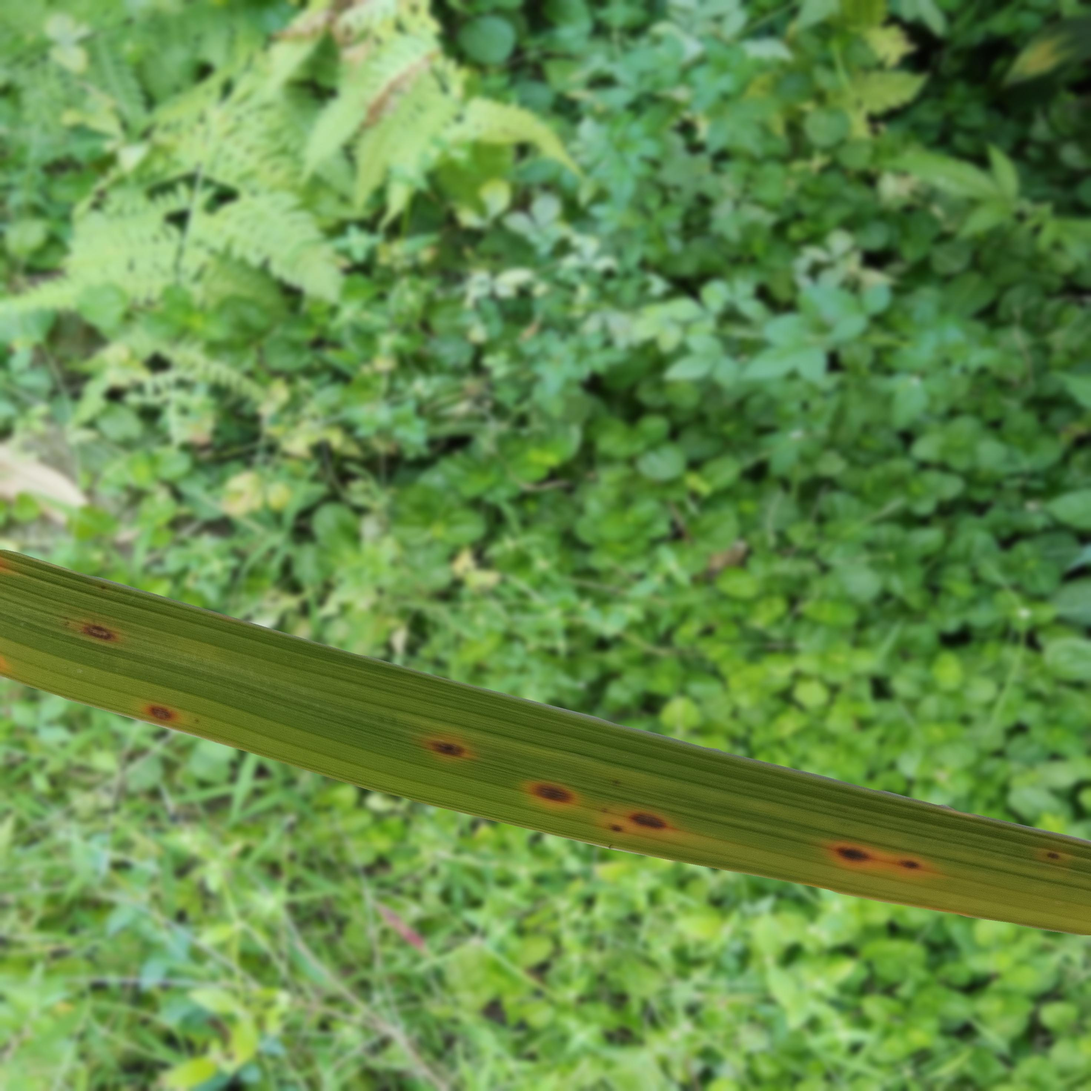LEAF BLAST: (533, 783, 571, 803), (429, 739, 464, 757), (143, 704, 177, 722), (630, 812, 666, 829), (82, 624, 115, 640)
